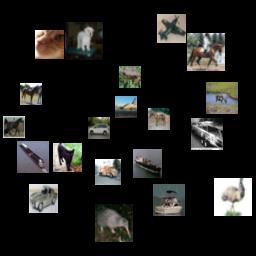airplane: (157, 14, 186, 43), (115, 96, 137, 118)
automobile: (191, 118, 223, 150), (29, 184, 58, 213), (88, 117, 110, 139)
bird: (95, 204, 133, 242), (214, 178, 252, 216)
cat: (53, 143, 82, 172), (35, 30, 64, 59)
deer: (206, 82, 238, 114)
dog: (65, 22, 103, 60)
frog: (119, 66, 141, 88)
ship: (153, 184, 185, 216), (17, 141, 49, 173), (133, 149, 162, 178)
truck: (95, 159, 121, 185)
